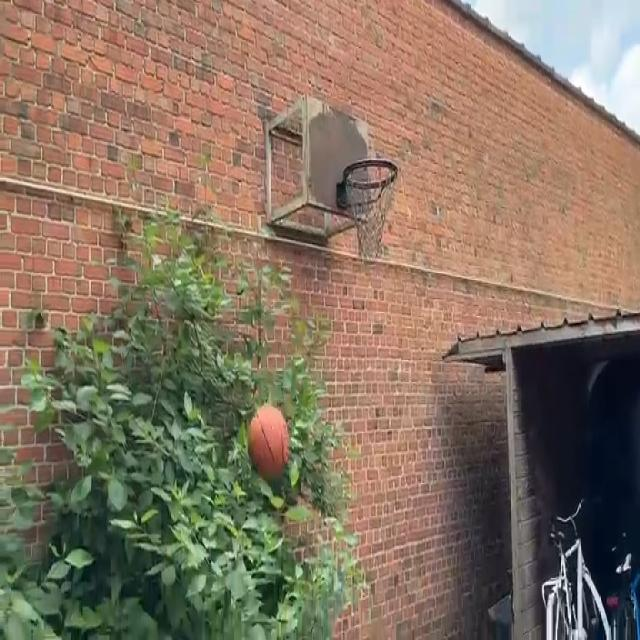Basketball: (248, 404, 292, 478)
